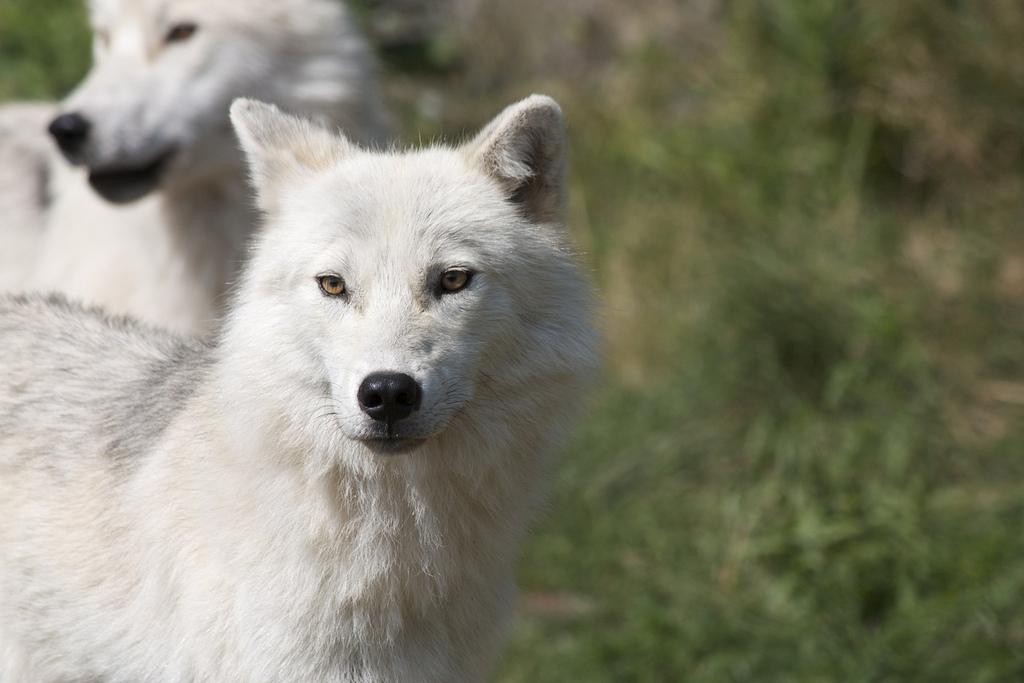Wolf: (1, 99, 599, 683), (5, 1, 396, 330)
